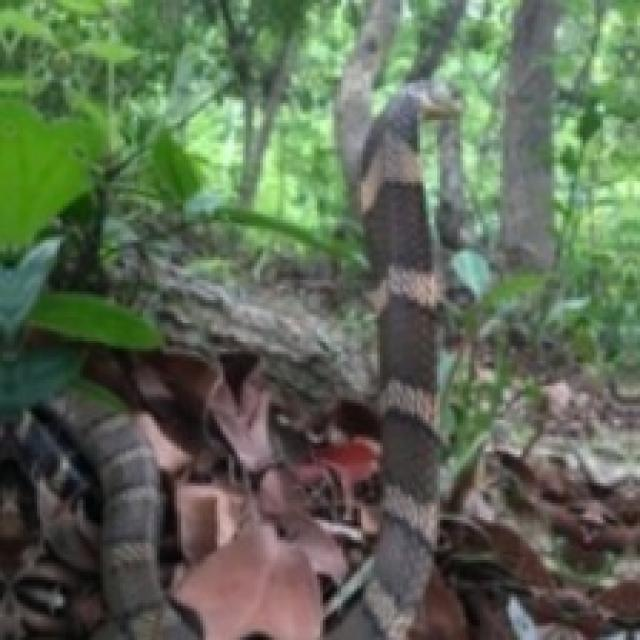king cobra: (0, 91, 463, 637), (357, 83, 457, 637)
